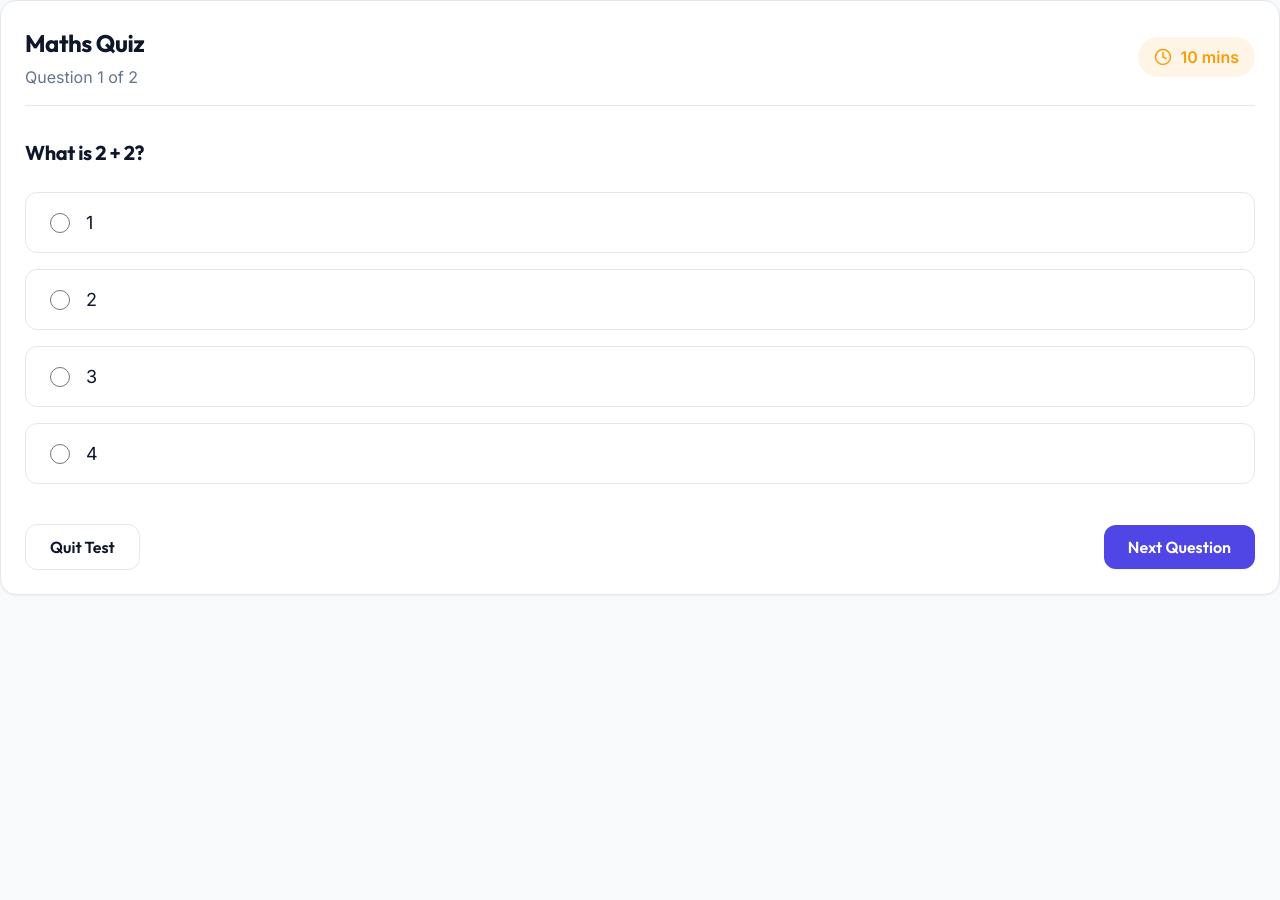
Scenario: TestTaker › advances to next question when "Next Question" is clicked
Click the radio button labelled "1": click(60, 222) [50,212,70,232]
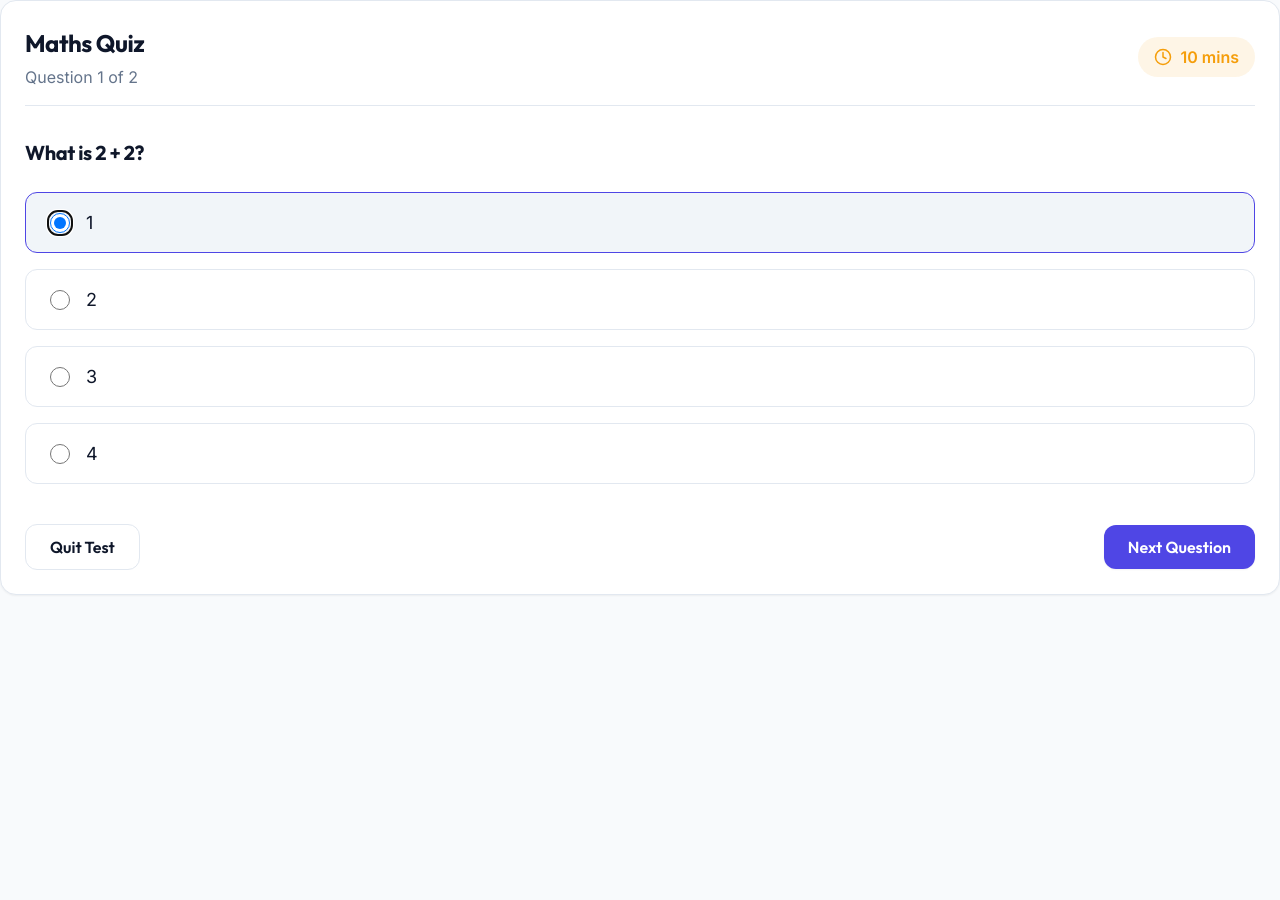
Click the button "Next Question": click(1179, 547) [1104,525,1255,569]
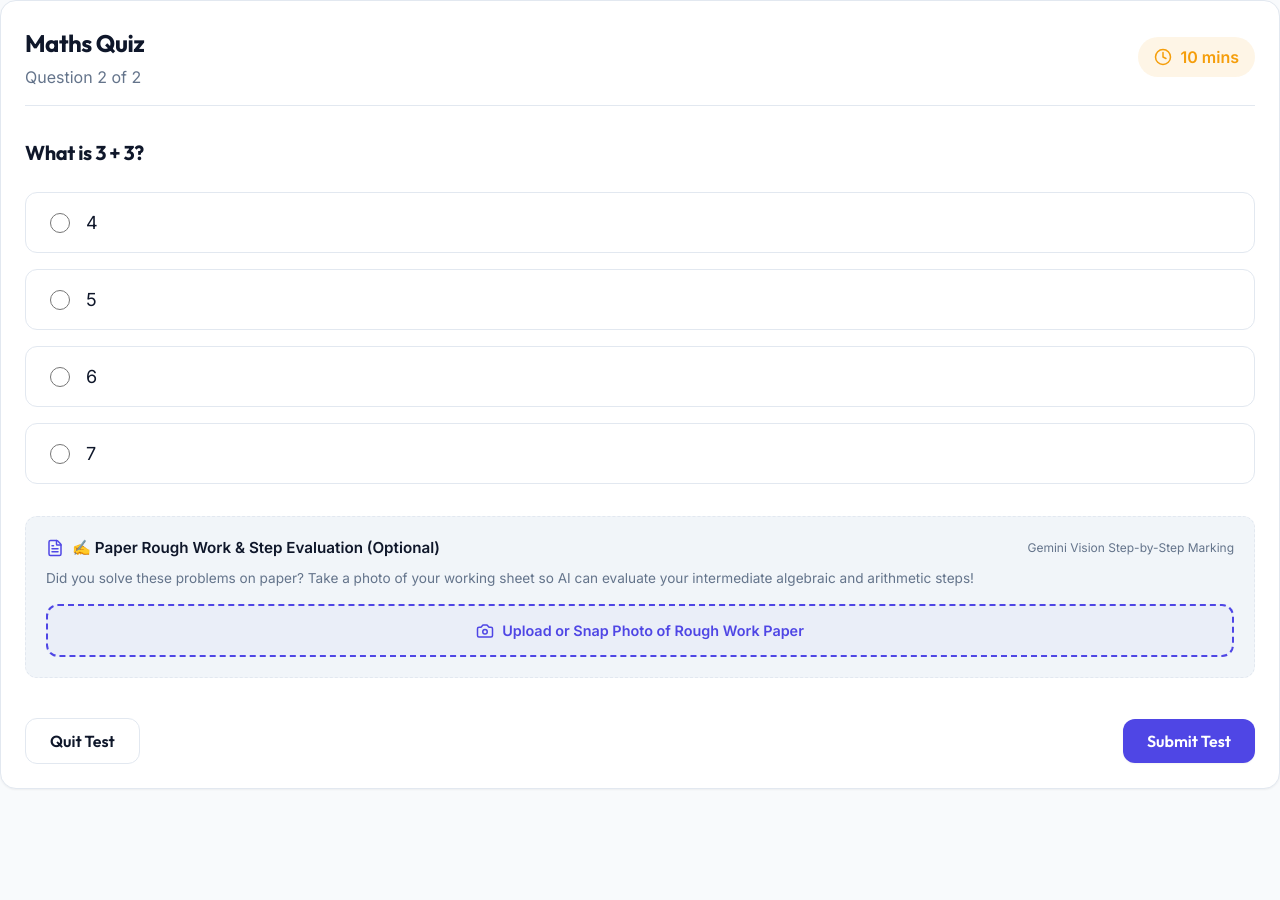
expect the heading "What is 3 + 3?" is shown: met, box [25,140,144,165]
